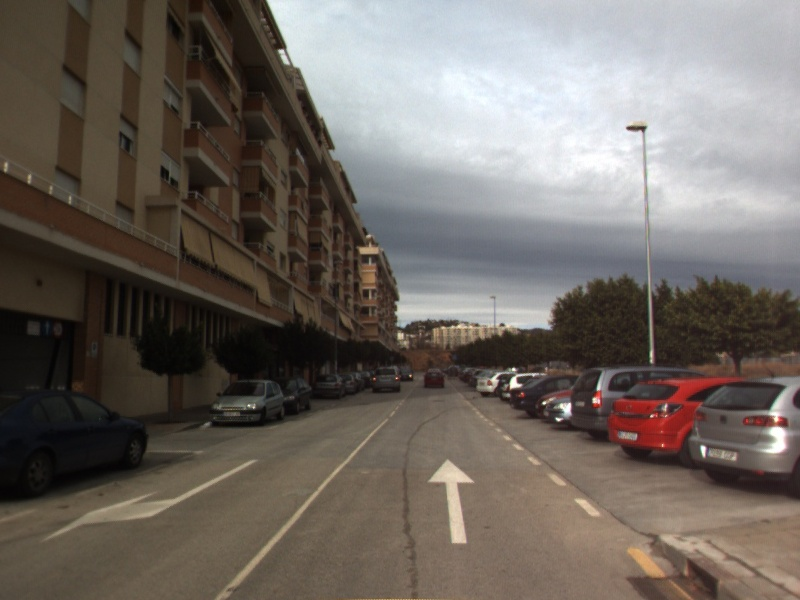STRAIGHT: (425, 457, 477, 546)
